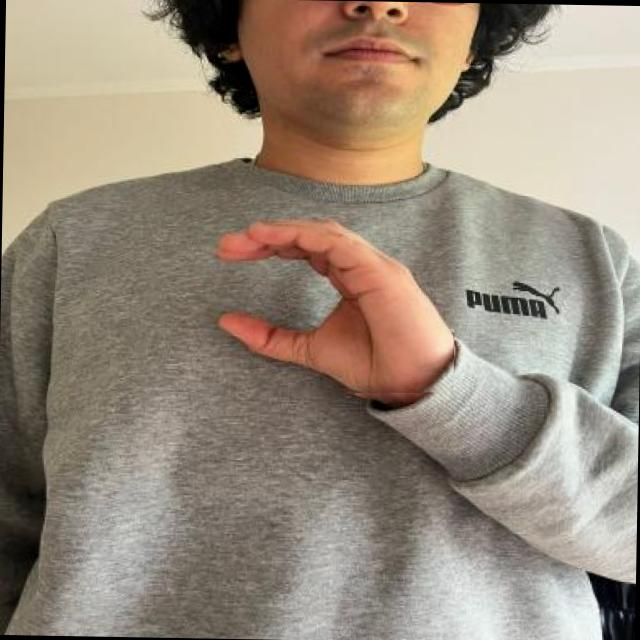C: (203, 205, 456, 399)
